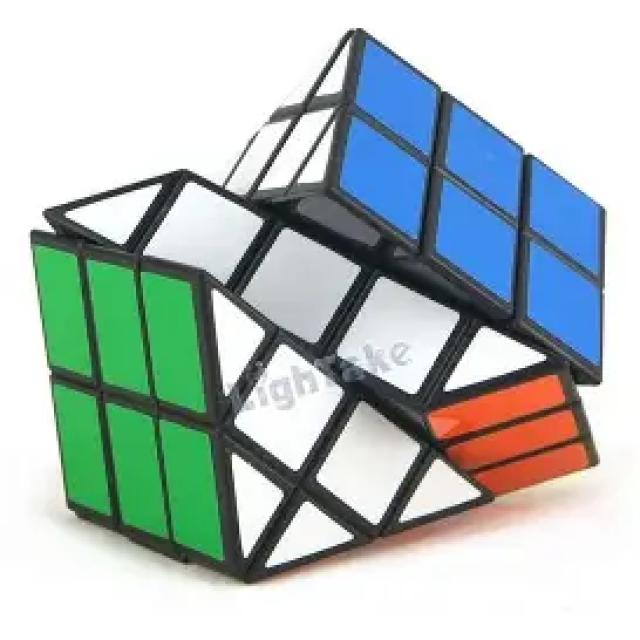Rubiks Cube: (32, 26, 603, 587)
